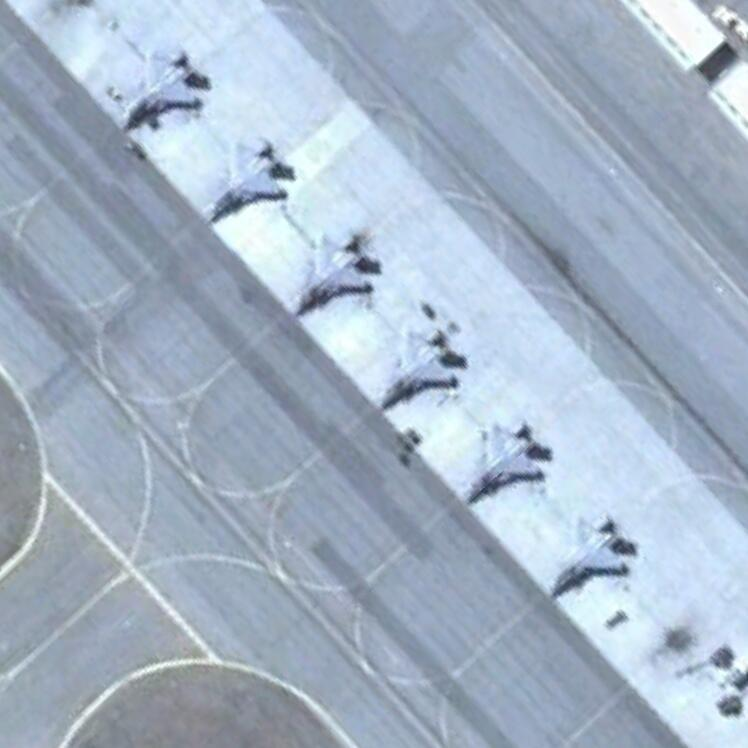A15: (109, 47, 202, 134), (457, 416, 542, 506), (290, 225, 372, 318), (203, 134, 286, 225), (376, 319, 458, 411), (545, 509, 627, 600)
